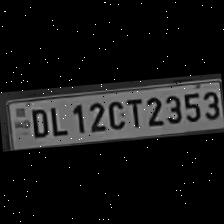1: (66, 99, 87, 135)
2: (84, 97, 106, 134), (142, 92, 164, 128)
3: (198, 86, 220, 121), (162, 90, 182, 124)
5: (180, 88, 201, 122)
C: (104, 95, 126, 131)
D: (26, 104, 50, 140)
L: (46, 102, 68, 138)
T: (122, 94, 144, 128)
